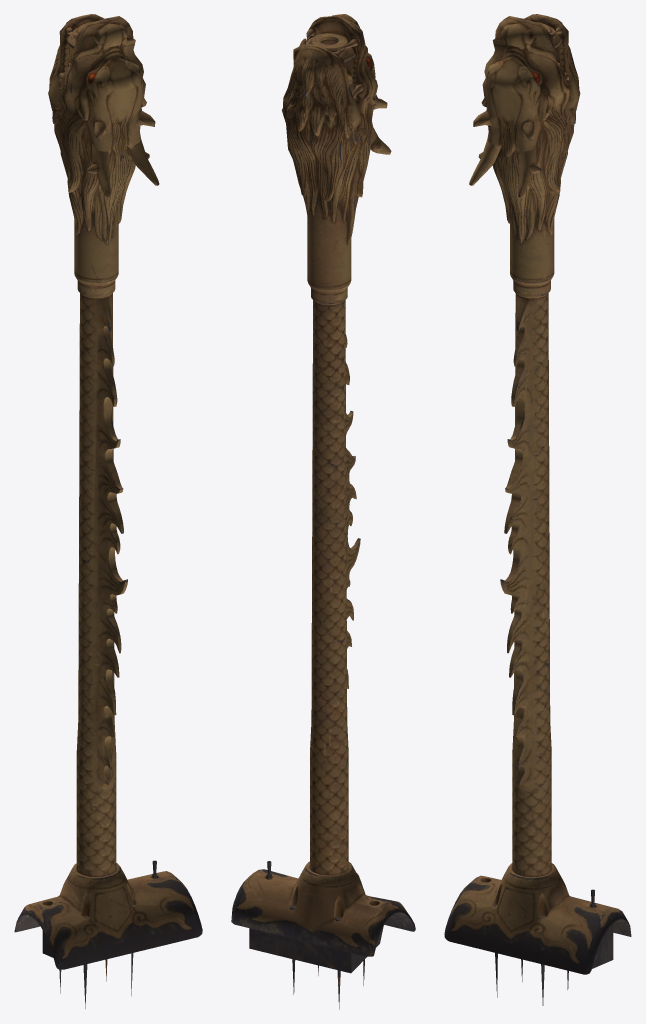
Rendered from Gun_01.glb.
3 renders of one model, left to right at view 1: azimuth 30°, elevation 25°; view 2: azimuth 150°, elevation 25°; view 3: azimuth 330°, elevation 25°, orthographic.
Visible parts, largest first — view 1: set_0_group_0; view 2: set_0_group_0; view 3: set_0_group_0.
Boxes of the visible parts, <box> form: set_0_group_0: <box>14,14,202,1008</box>; set_0_group_0: <box>231,14,415,1009</box>; set_0_group_0: <box>444,14,631,1005</box>.
Bounding box in the file's own units: 1.06 × 6.79 × 0.7918.
Materials: 1 (1 with a texture image).
